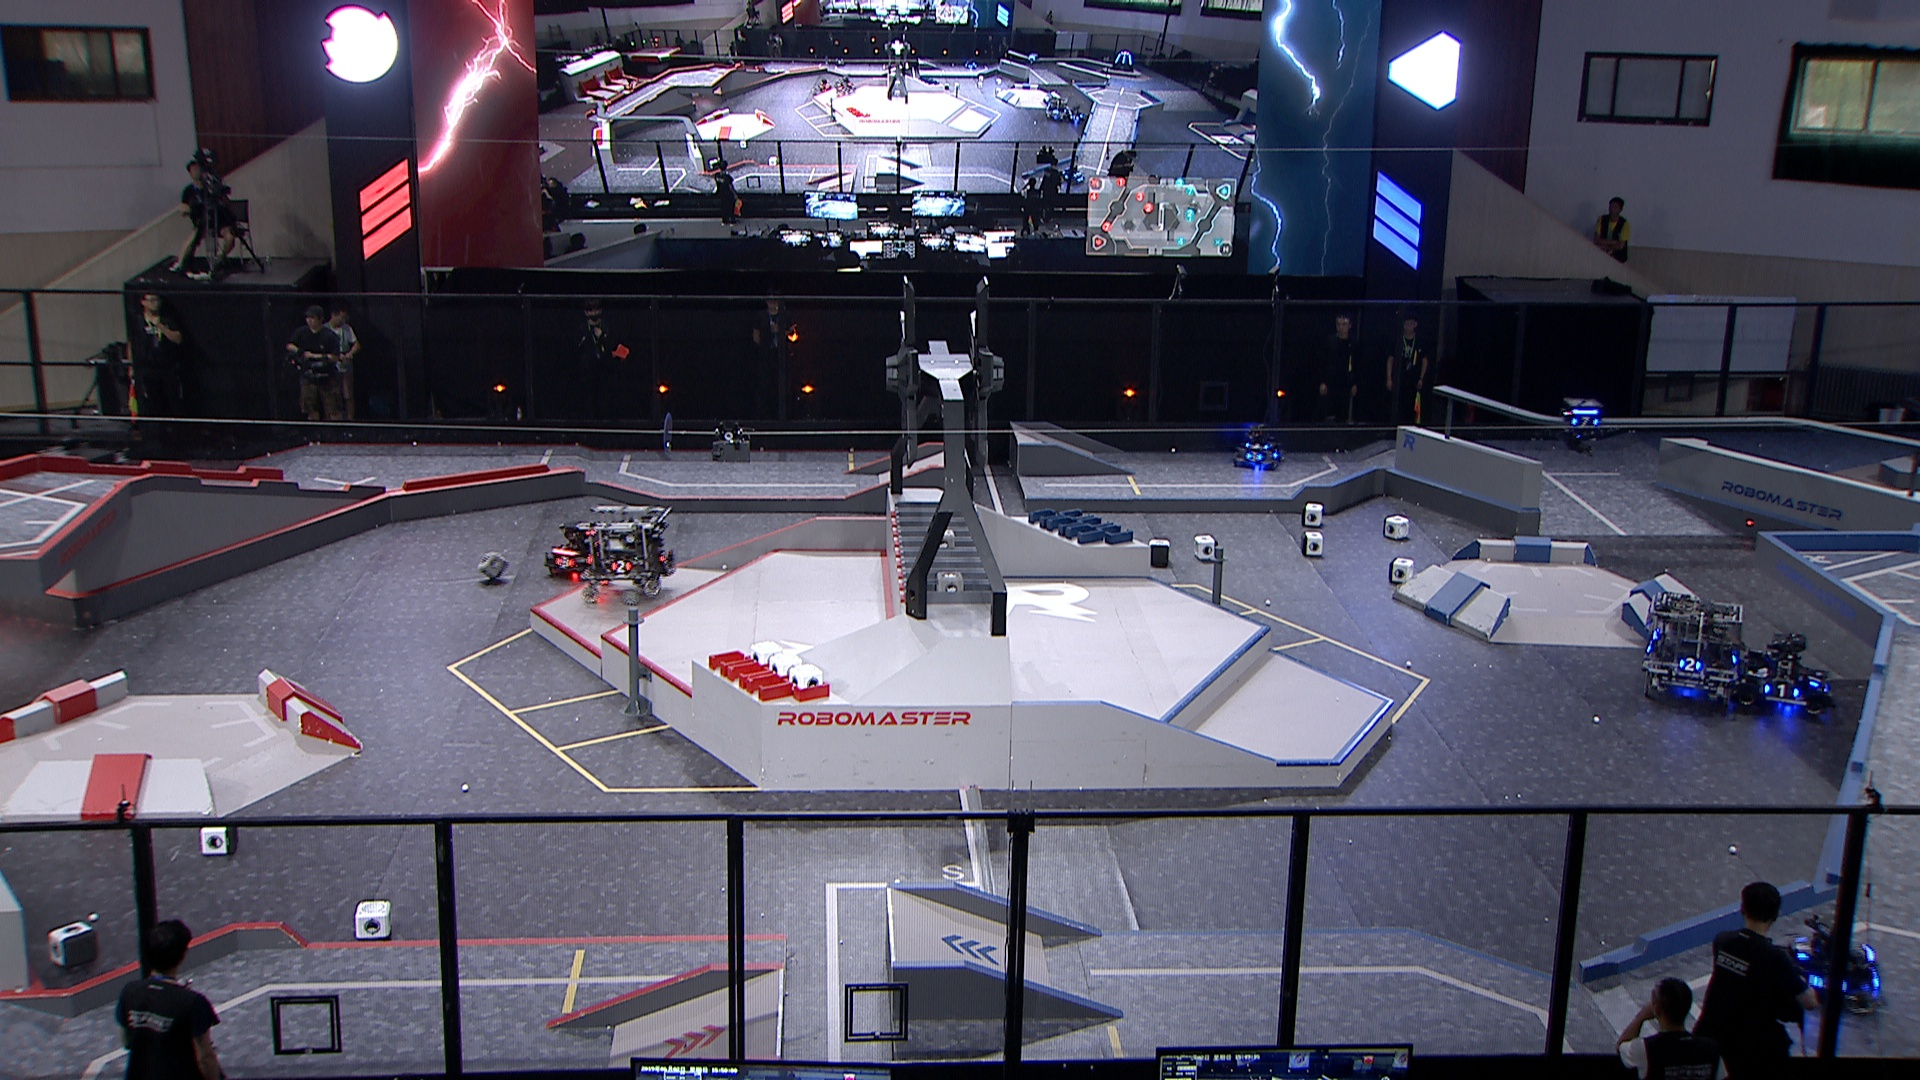armor: (1789, 931, 1815, 963), (1764, 680, 1801, 699), (1567, 415, 1600, 431), (1679, 657, 1704, 675), (608, 559, 632, 575), (1244, 447, 1263, 465), (553, 553, 574, 570), (1244, 439, 1273, 451), (1807, 671, 1826, 688), (655, 549, 670, 566)
car: (1636, 589, 1747, 707), (1774, 913, 1884, 1021), (579, 498, 675, 607), (1733, 626, 1836, 721), (542, 516, 611, 576), (1230, 419, 1287, 472)
ignore: (1044, 95, 1069, 124), (1062, 160, 1087, 189), (1112, 47, 1135, 76), (833, 74, 858, 95), (812, 73, 833, 98), (1068, 104, 1088, 129)
watcher: (1561, 396, 1605, 458)
